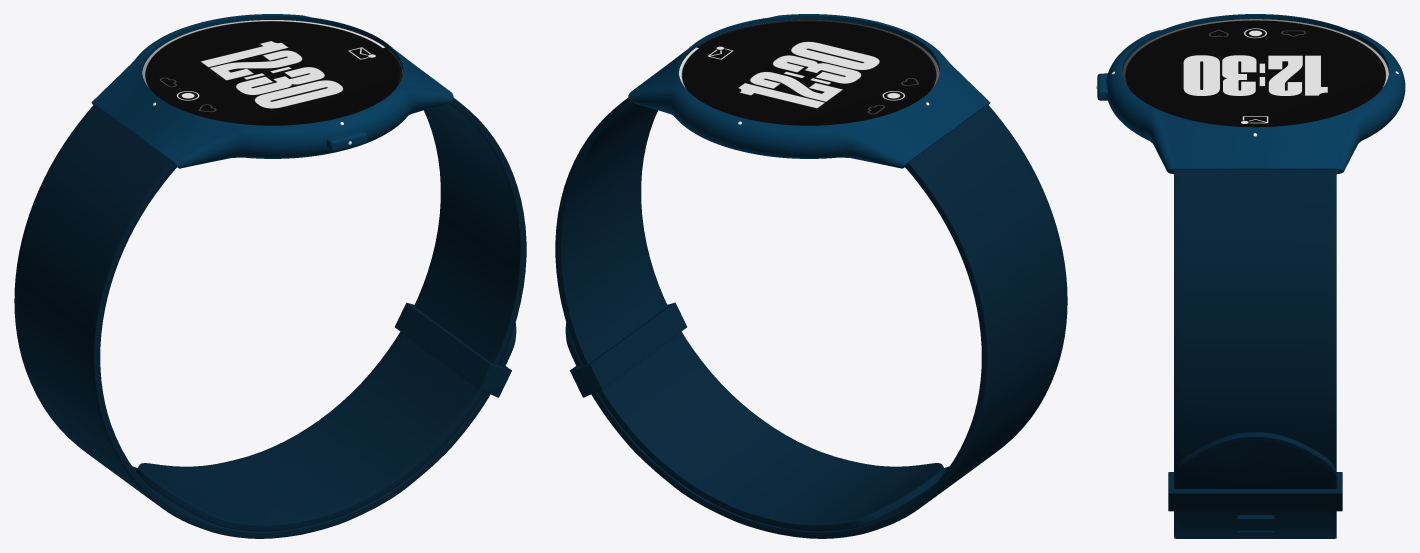
Rendered from asset.glb.
The picture shows the model from 3 angles, left to right: view 1: azimuth 30°, elevation 25°; view 2: azimuth 150°, elevation 25°; view 3: azimuth 270°, elevation 25°; orthographic projection. The views are drawn at different scales.
Parts seen in each view (by area): view 1: Watch; view 2: Watch; view 3: Watch.
Part boxes in pixels (x1,y1,x2,y2): Watch: [14, 14, 526, 538]; Watch: [555, 14, 1067, 538]; Watch: [1096, 14, 1405, 538].
Size of the model in its own units: 6.2 by 6.02 by 3.71.
Materials: 5 (1 with a texture image).
